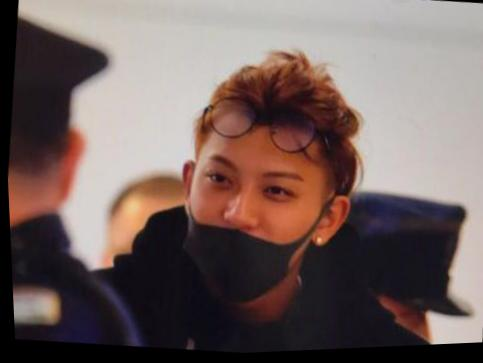WRONG: (175, 134, 322, 315)
